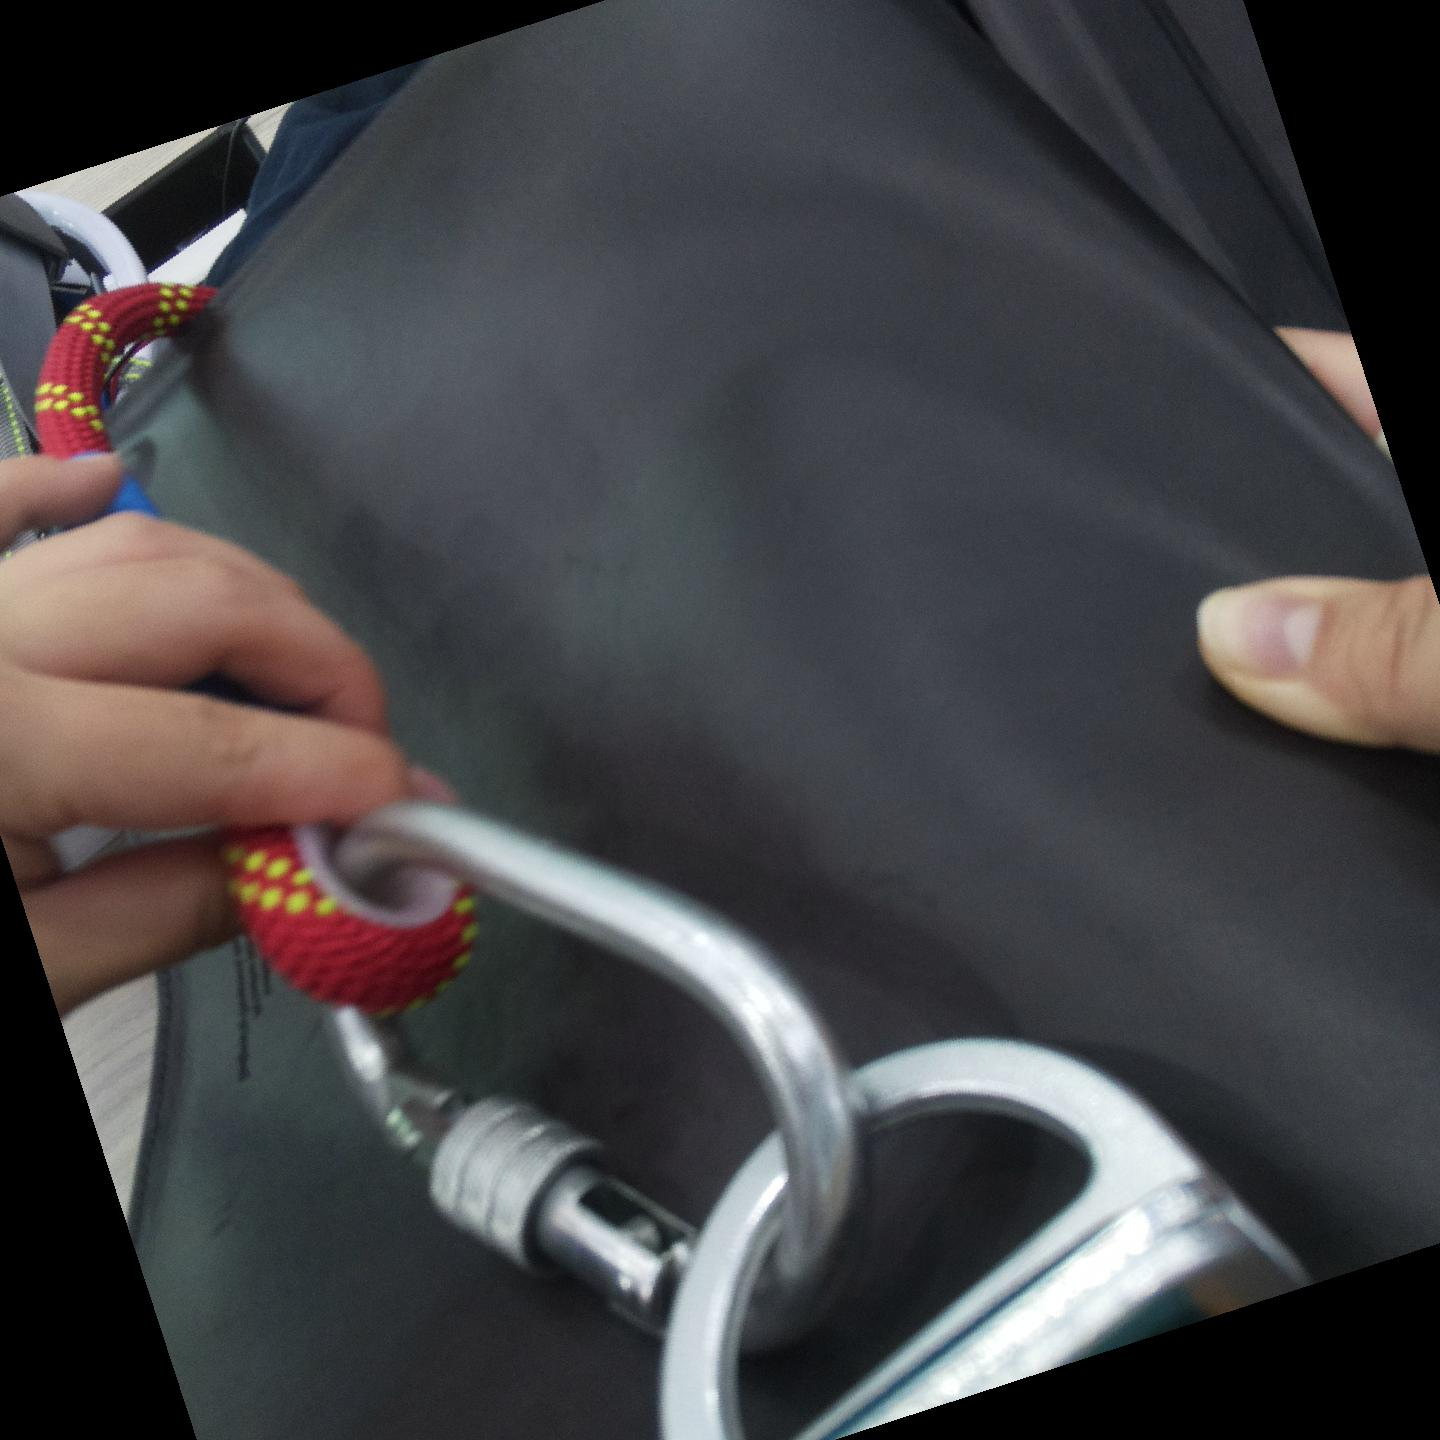SUCCESS: (541, 819, 1300, 1364)
